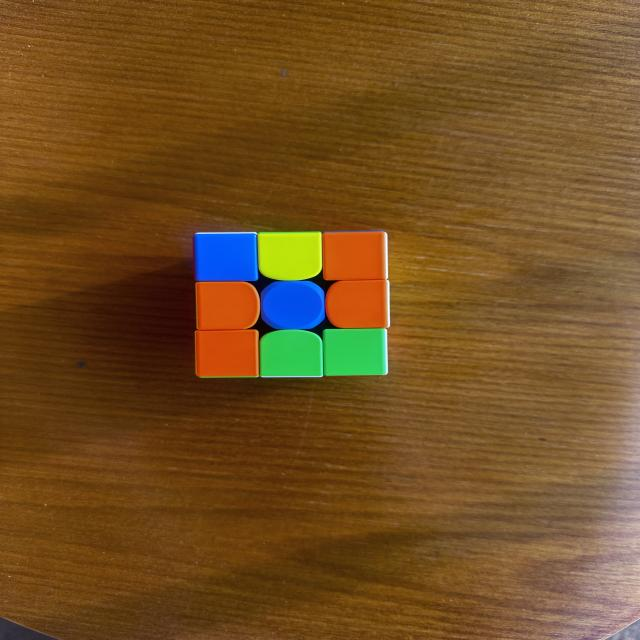sticker: (194, 232, 260, 284), (321, 231, 388, 282), (260, 280, 327, 331), (255, 232, 322, 282), (195, 282, 261, 332), (324, 280, 390, 329), (322, 328, 388, 377), (194, 329, 260, 378), (259, 330, 325, 378)
